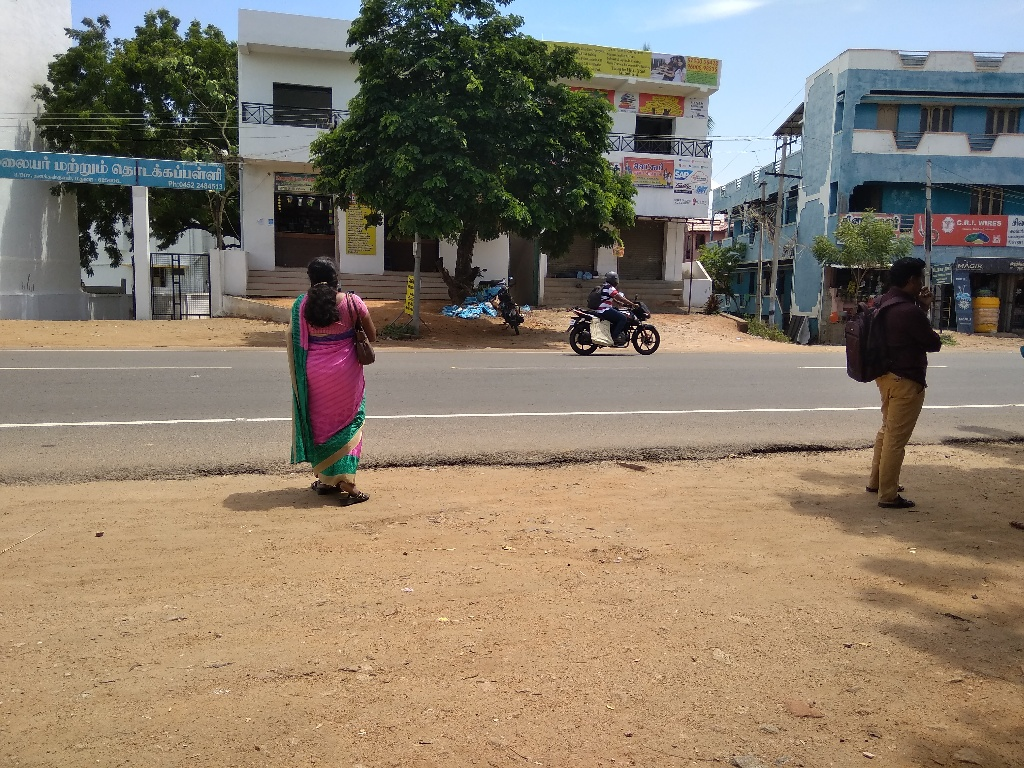biker: (559, 244, 667, 366)
helmet: (599, 266, 626, 295)
